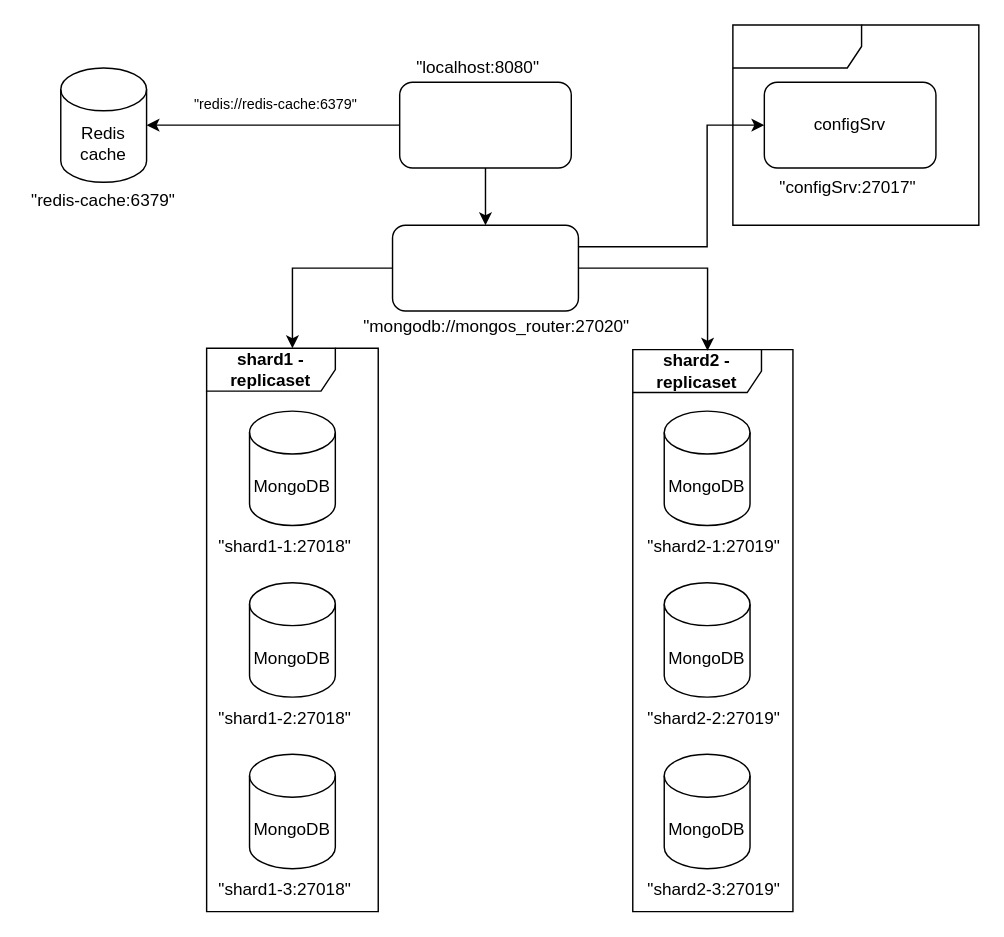
This 1004x937 diagram has some shape labels left out. Here are the shapes that lost their labels. From the top down, the centre of each, then its label:
the point at 484,124: pymongo-api
the point at 855,124: config_server - replicaset
the point at 484,267: mongos_router
